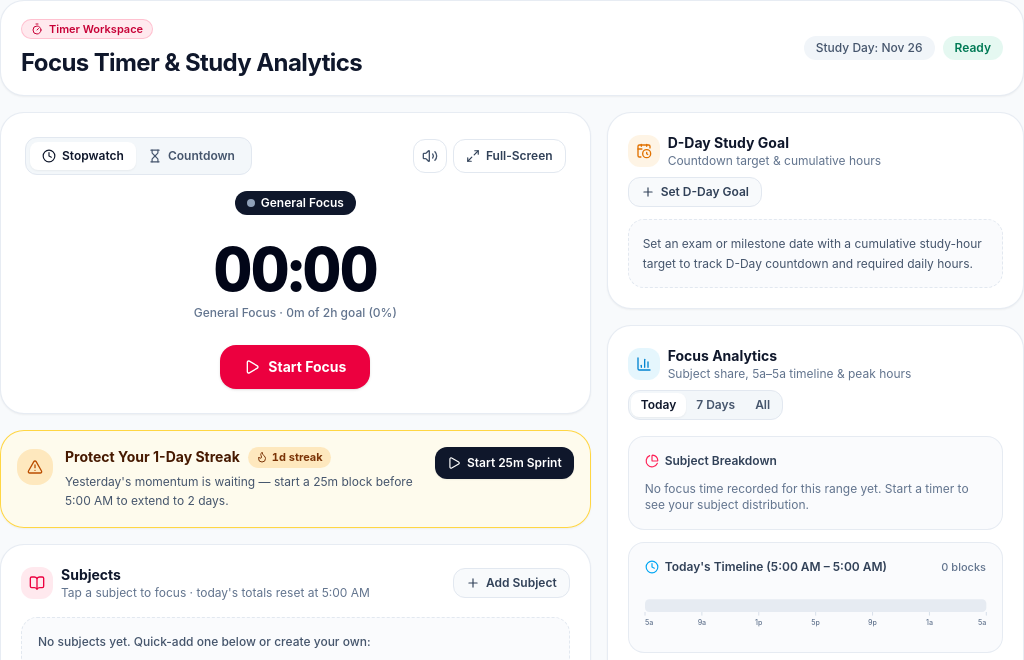
Scenario: TimerTab — Phase 3 Focus Timer, Subjects, D-Day, Analytics & Full-Screen › tracks D-Day countdown + hours and shows behavioral streak-at-risk sprint CTA
expect the heading "Protect Your 1-Day Streak" is shown: met, box [65, 447, 240, 467]
Click the button "Set D-Day Goal": click(695, 192) [628, 177, 762, 207]
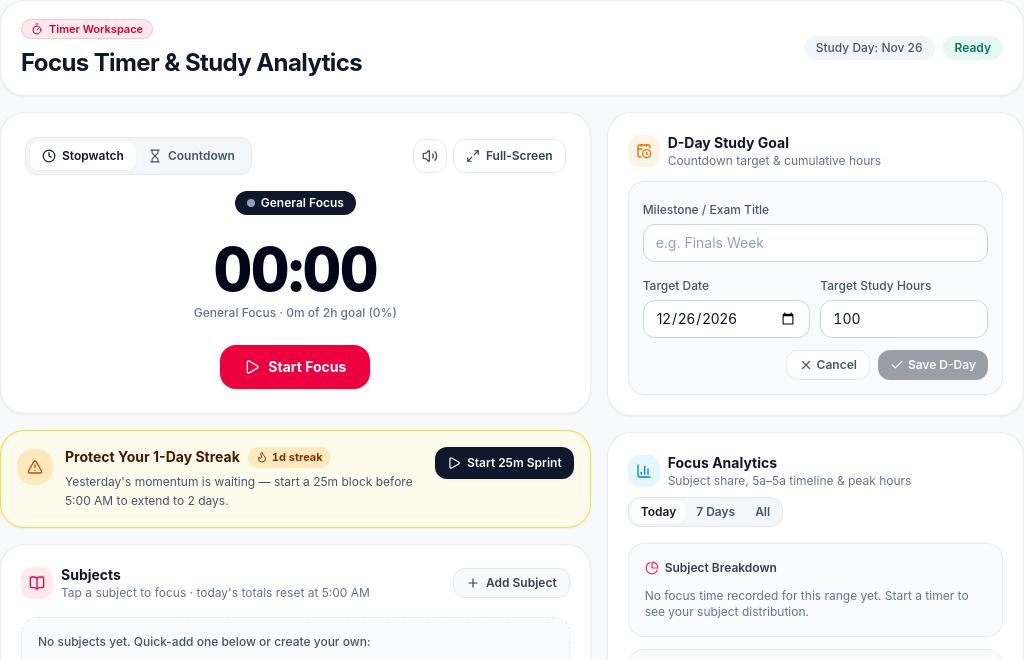
In the field with placeholder "e.g. Finals Week": (815, 243) [643, 224, 988, 262], type "Gate Exam"
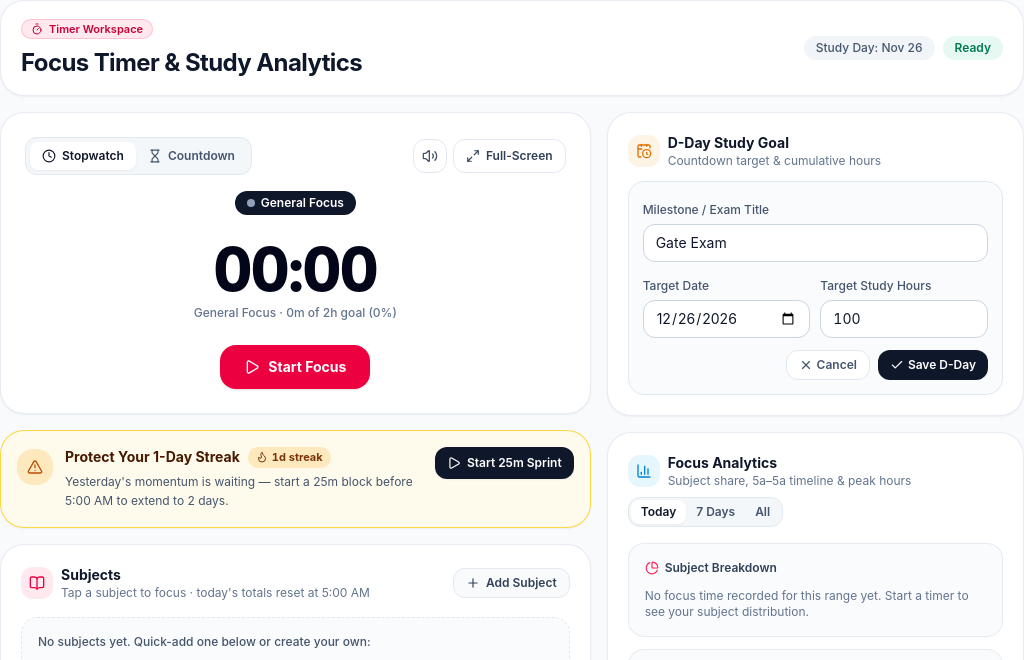
In the date field labelled "Target Date": (727, 319) [643, 300, 810, 338], type "2026-12-06"
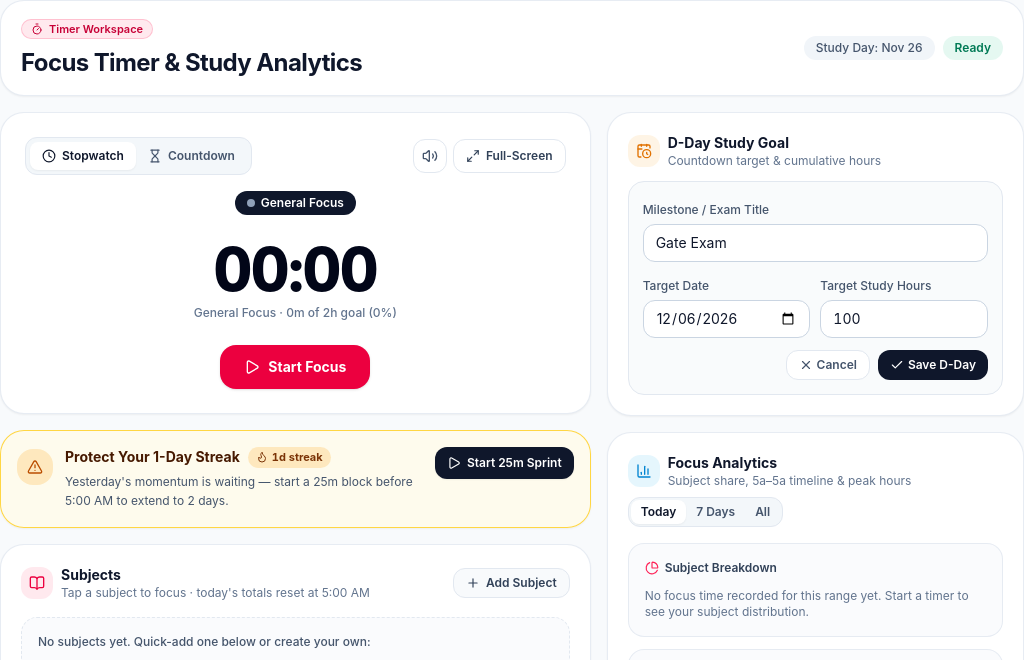
Replace the text in the number field labelled "Target Study Hours" with "21": (904, 319) [820, 300, 988, 338]
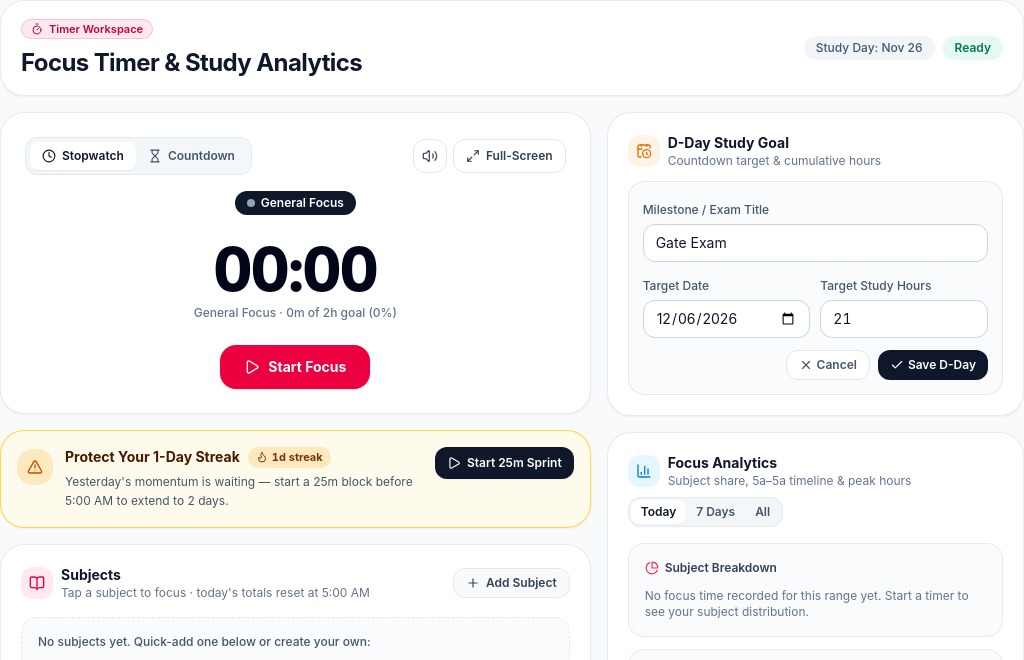
Click the button "Save D-Day": click(933, 365) [878, 350, 988, 380]
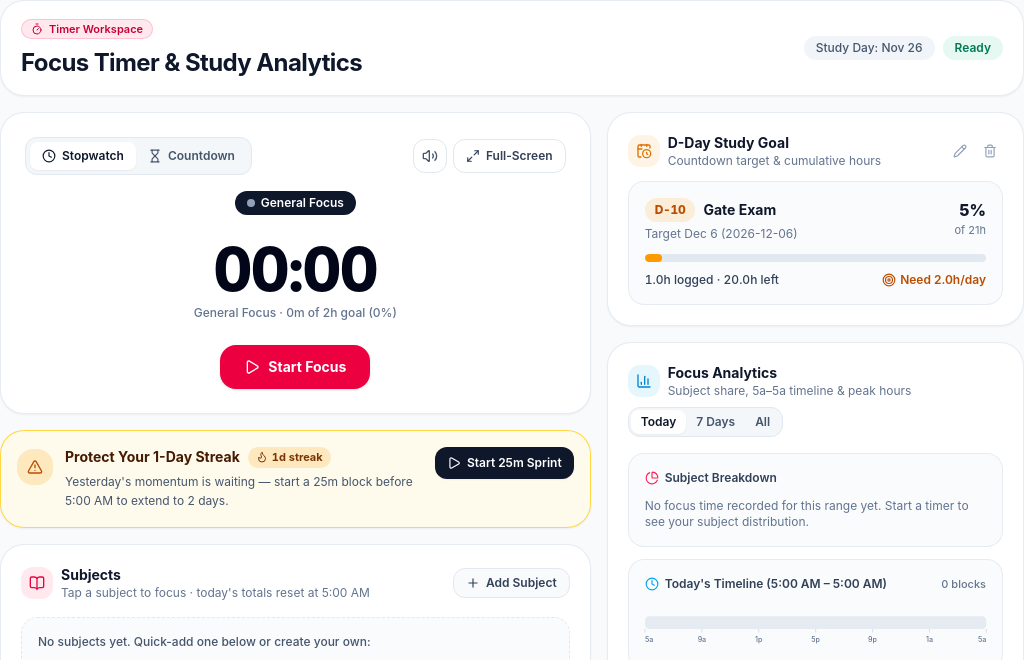
expect the text with test id "dday-badge" reads "D-10": met, box [655, 202, 685, 217]
expect the text "Need 2.0h/day" is shown: met, box [882, 272, 986, 288]
// Quick sprint button starts countdown immediately
Click the button "Start 25m Sprint": click(504, 463) [435, 447, 574, 479]
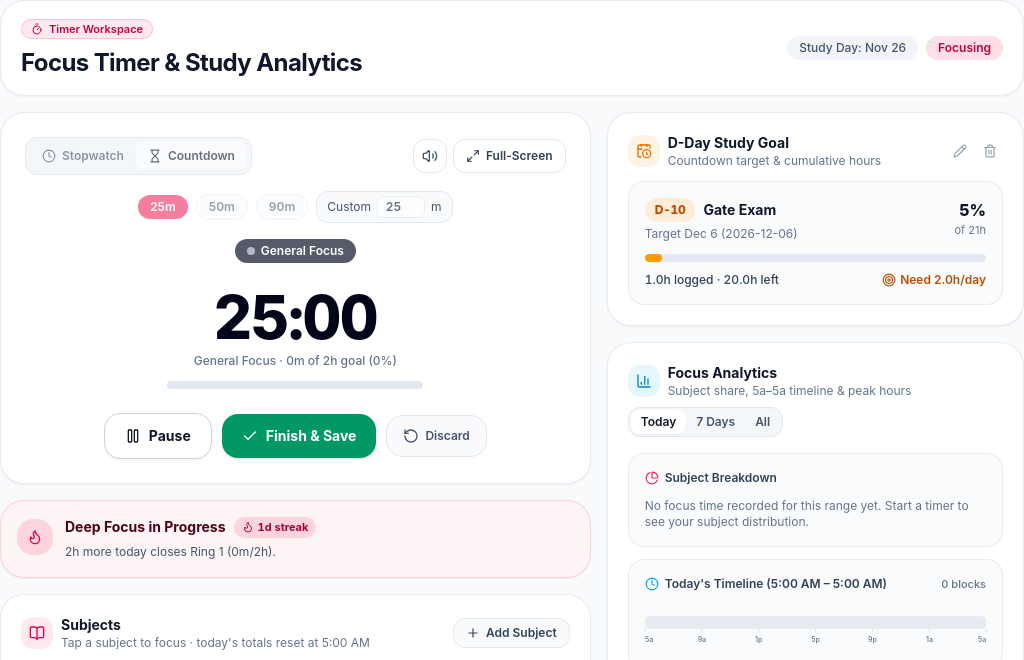
expect the text with test id "timer-status-pill" reads "Focusing": met, box [938, 40, 991, 55]
